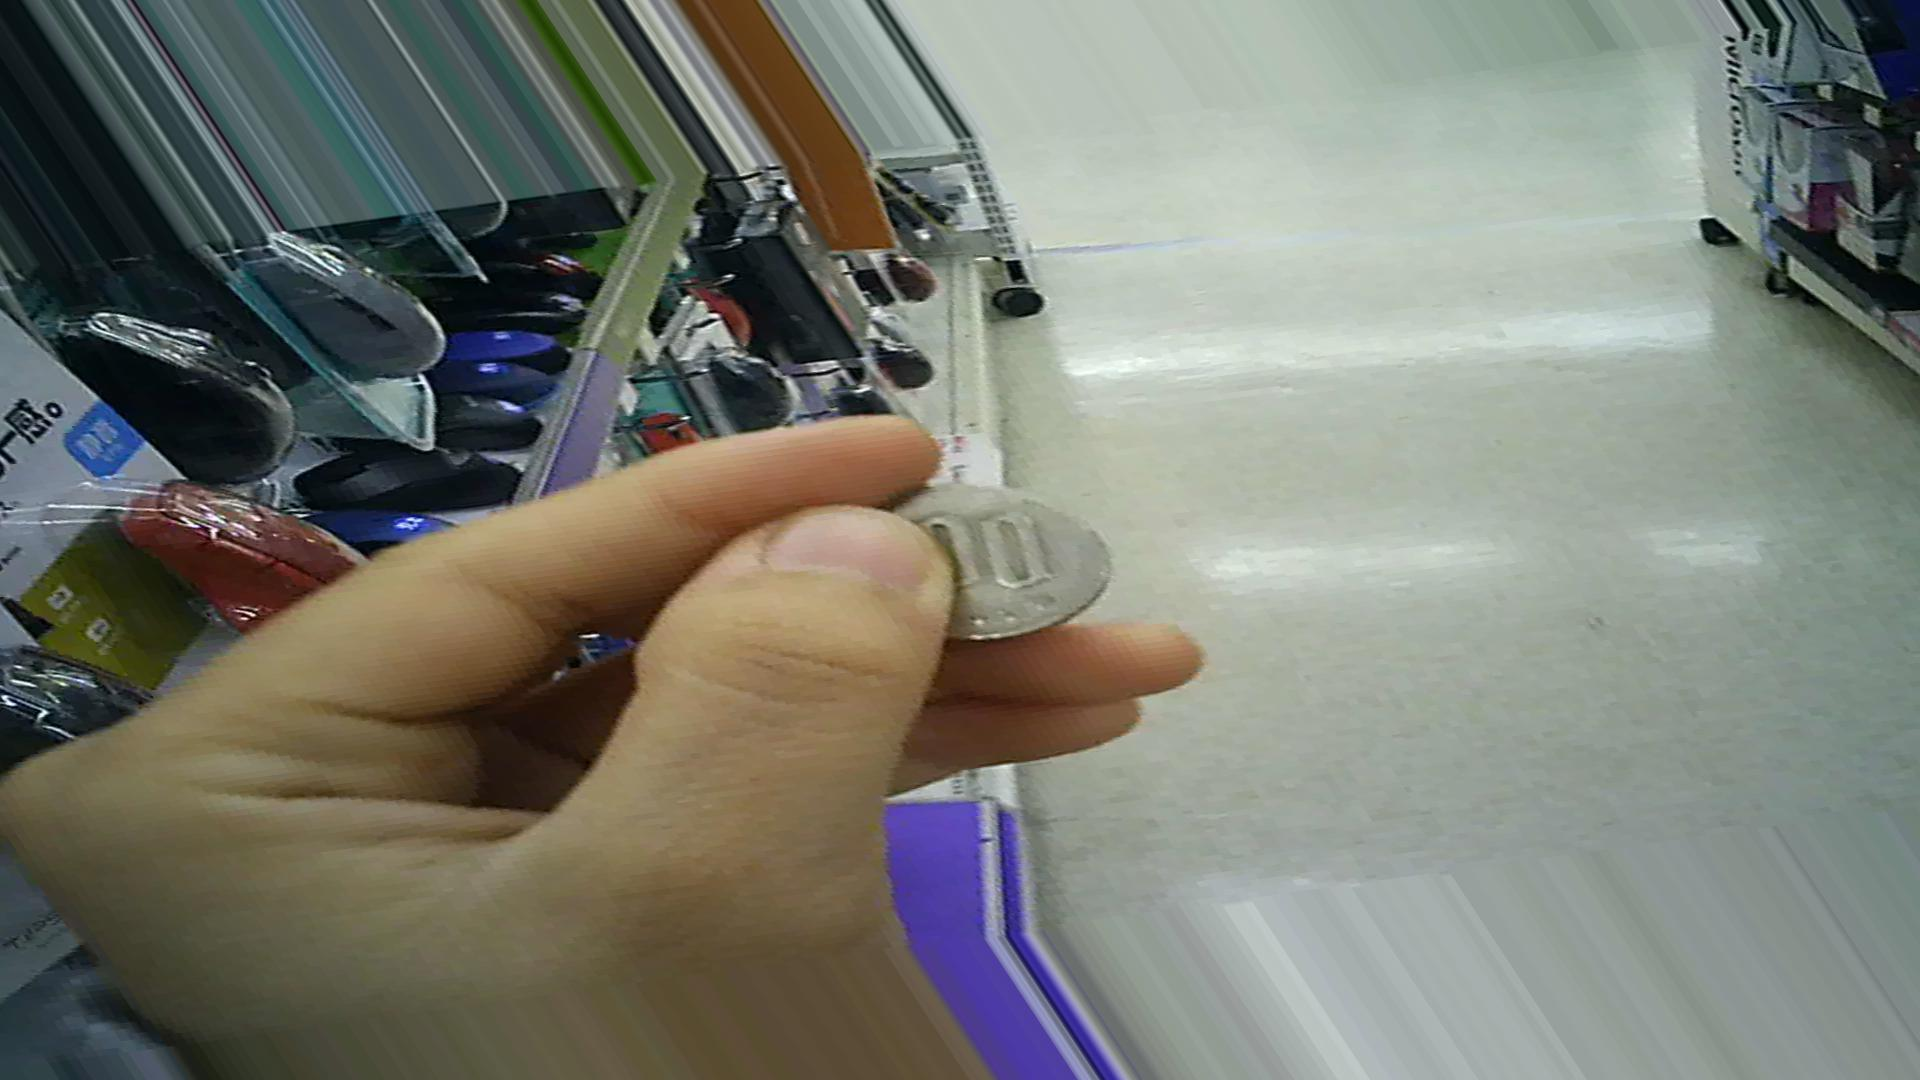100 Yen: (852, 469, 1118, 662)
